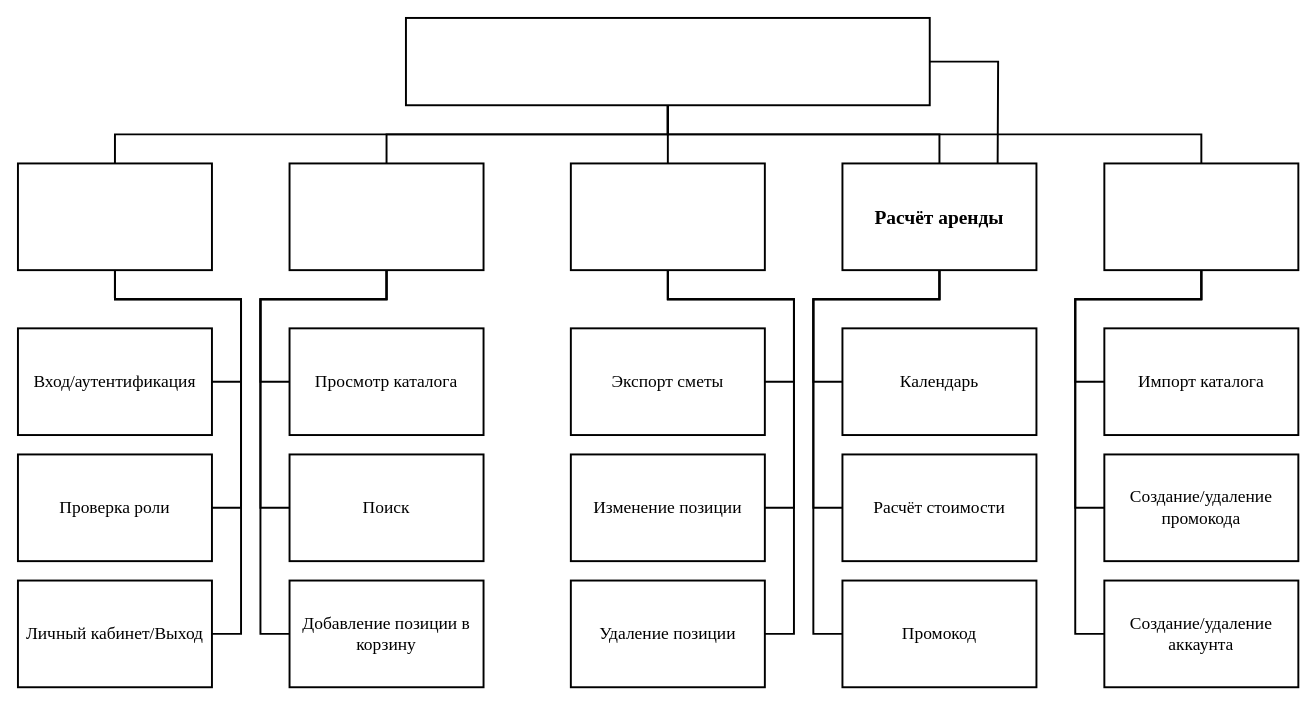
Some shapes in this 1315 by 704 pixel diagram are drawn without their labels. Here are the shapes that lost their labels. From the top down, the box of each, then its label:
(404, 16, 930, 106): Бизнес-процесс Управление системой аренды оборудования
(16, 162, 212, 271): Управление доступом
(288, 162, 484, 271): Каталог и поиск
(569, 162, 765, 271): Корзина
(1103, 162, 1299, 271): Администрирование
